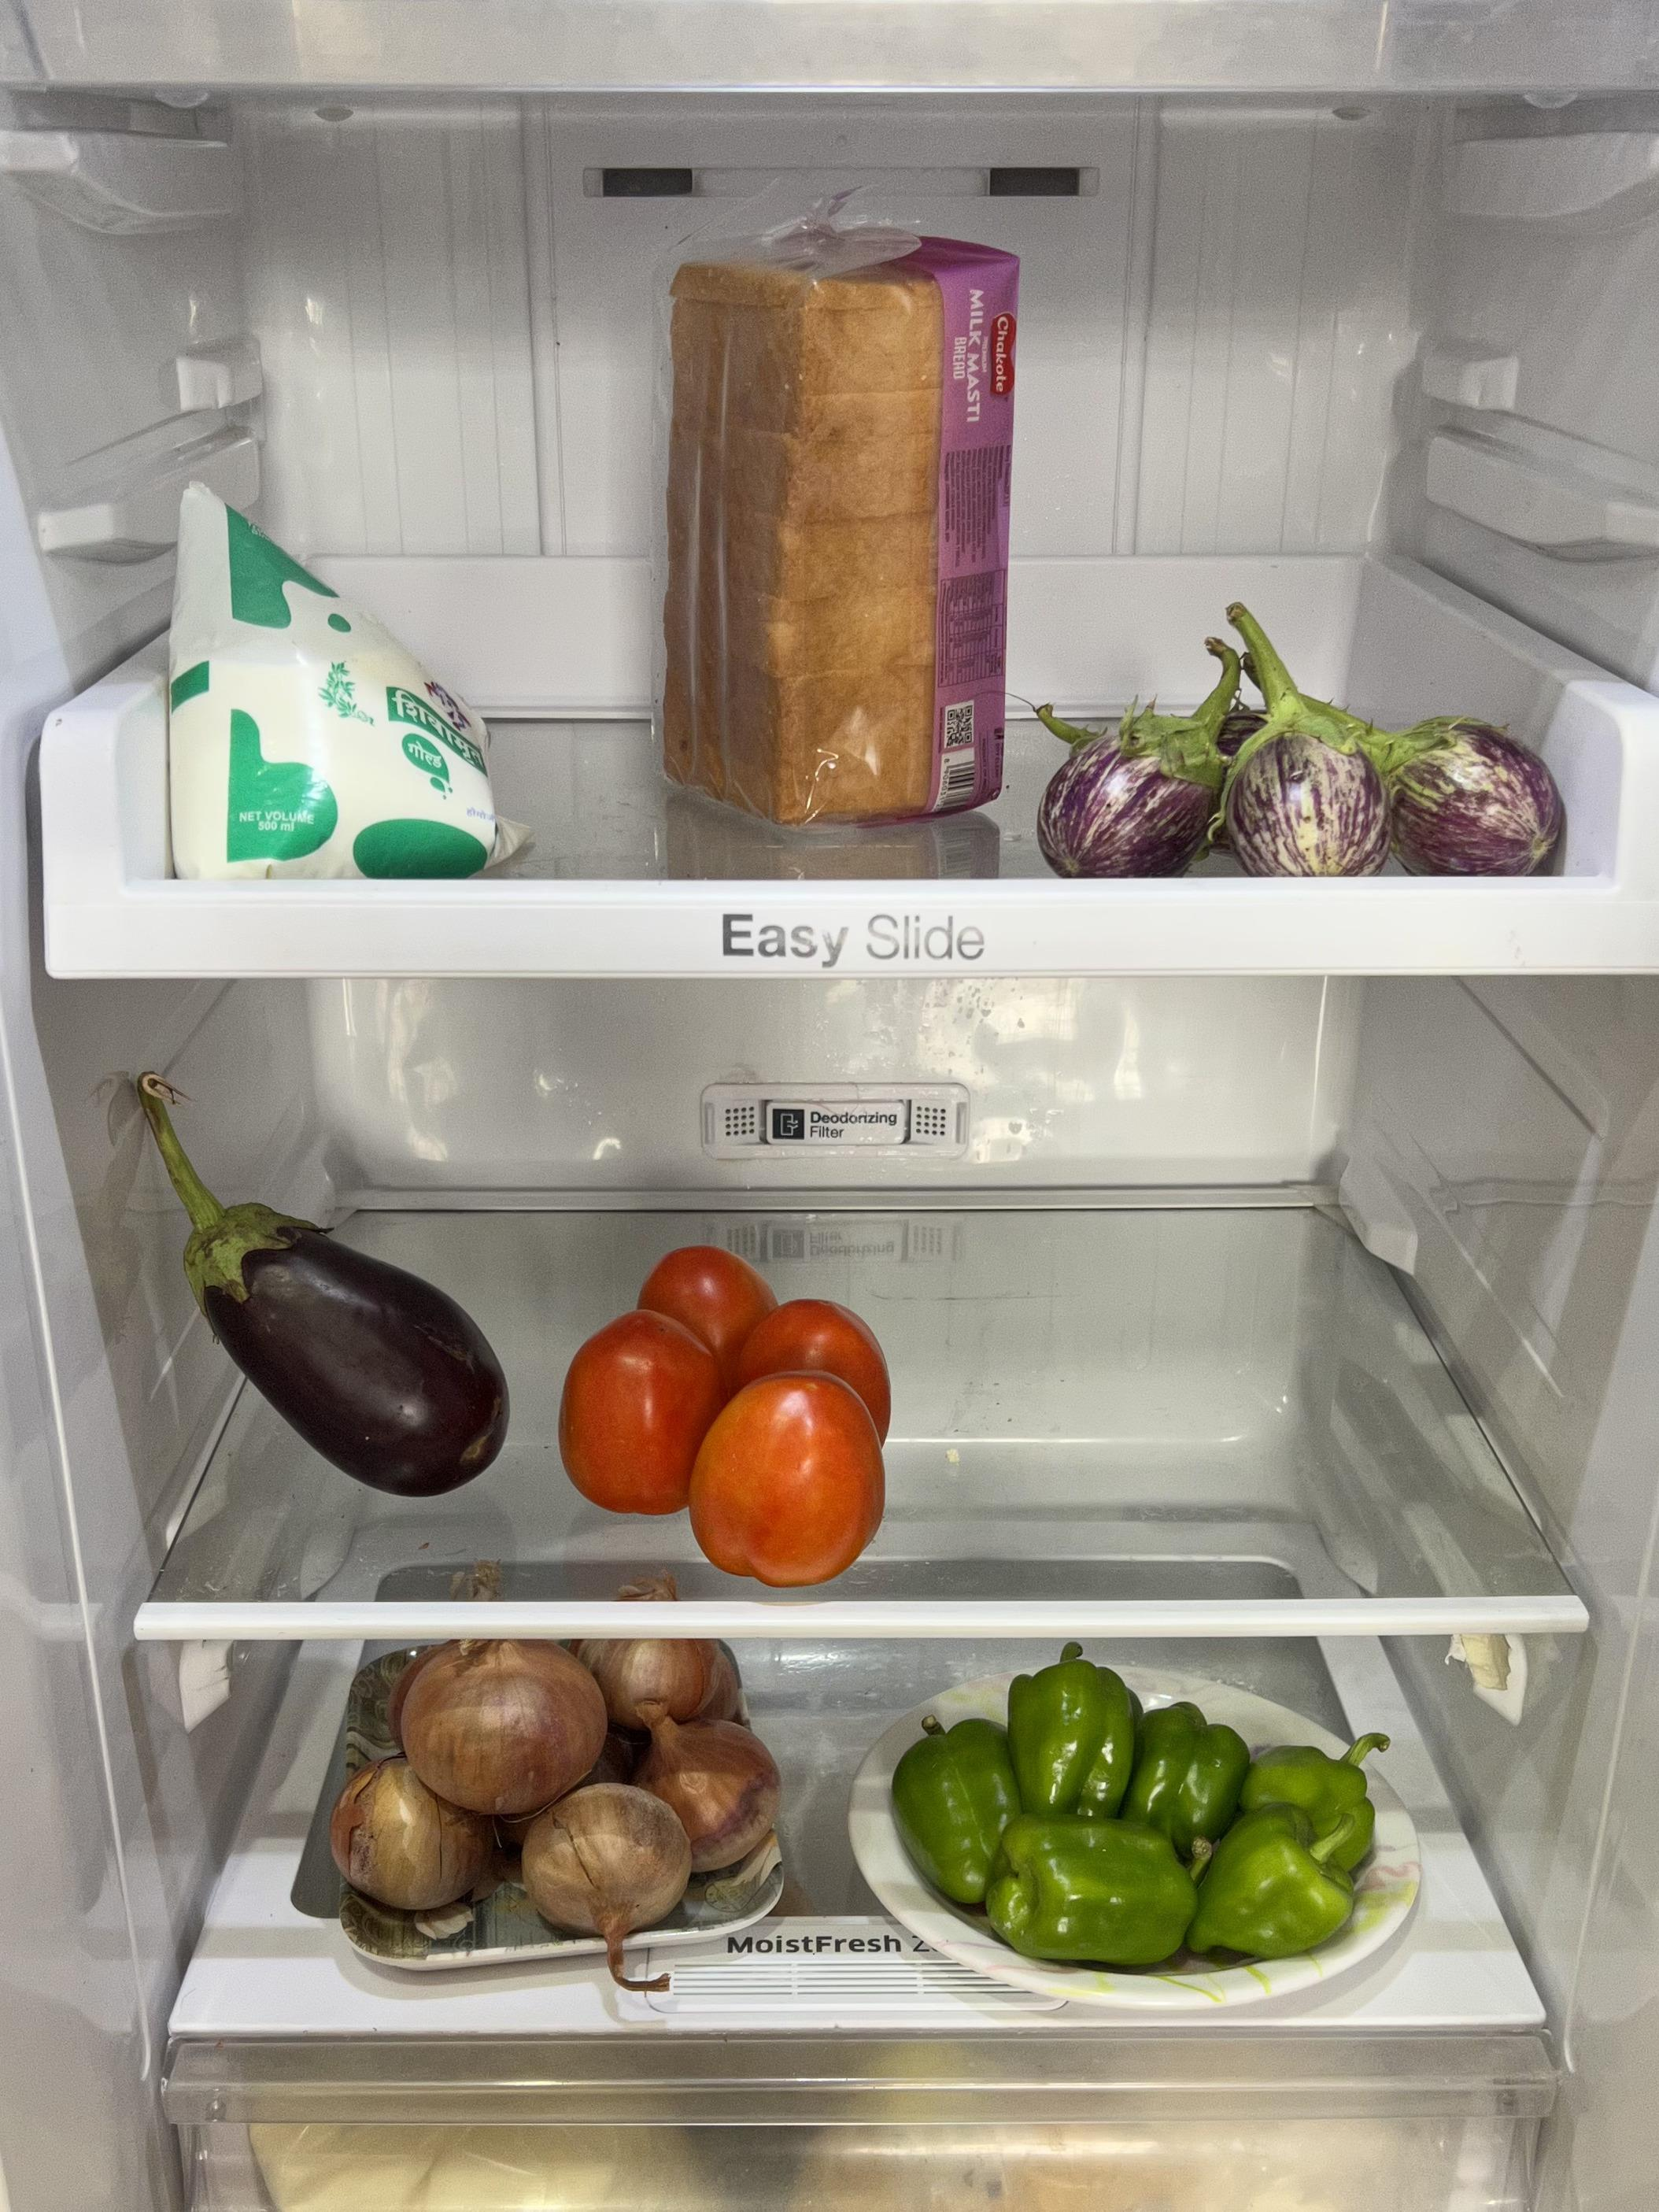bread: (629, 220, 1026, 842)
bringal: (131, 1100, 507, 1497), (1035, 634, 1577, 892), (556, 1246, 908, 1586)
capsicum: (890, 1659, 1375, 1959)
milk: (139, 479, 528, 877)
onion: (321, 1630, 782, 1935)
